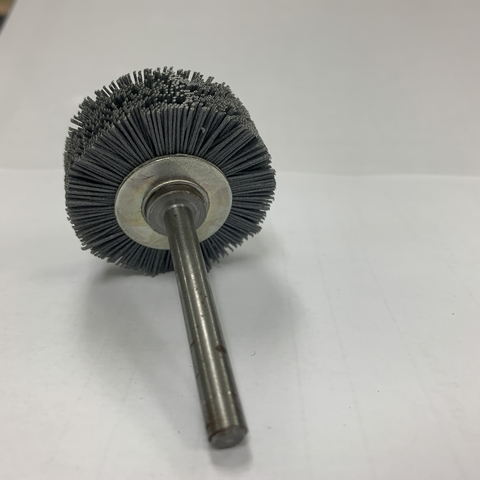Wheel Brush: (58, 61, 289, 452), (57, 50, 278, 439), (31, 66, 316, 351)
